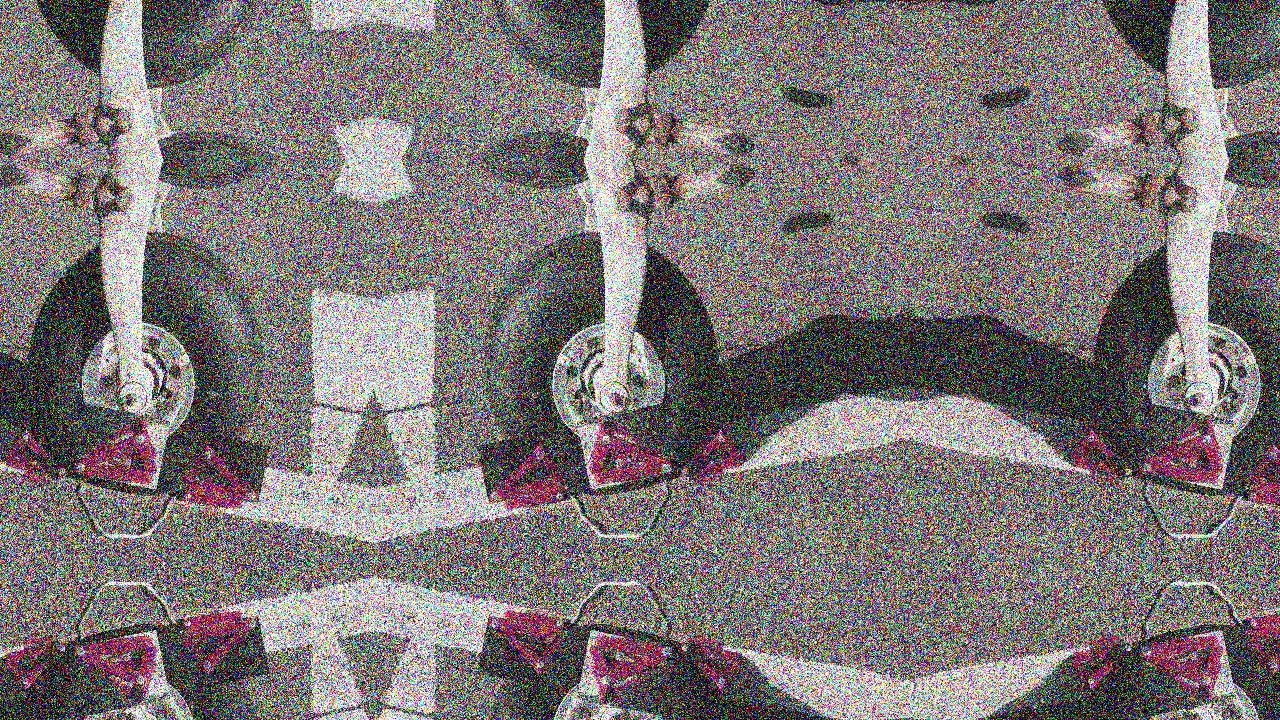chock: (1137, 403, 1237, 490), (1137, 630, 1237, 717), (71, 403, 170, 490), (577, 403, 676, 490), (71, 630, 170, 717), (577, 630, 676, 717), (179, 430, 270, 505), (477, 430, 568, 505), (179, 615, 270, 690), (477, 615, 568, 690), (180, 447, 256, 513), (491, 447, 567, 513), (180, 607, 256, 673), (491, 607, 567, 673), (1069, 418, 1143, 479), (1069, 641, 1143, 702), (3, 418, 76, 479), (671, 418, 744, 479), (3, 641, 76, 702), (671, 641, 744, 702), (1246, 430, 1280, 505), (1246, 615, 1280, 690), (1246, 447, 1280, 513), (1246, 607, 1280, 673), (22, 453, 62, 486), (685, 453, 725, 486), (22, 634, 62, 667), (685, 634, 725, 667), (1089, 453, 1128, 486), (1089, 634, 1128, 667)
wheel: (13, 213, 287, 508), (460, 213, 734, 508), (1080, 213, 1280, 508), (13, 612, 287, 720), (460, 612, 734, 720), (13, 0, 287, 107), (460, 0, 734, 107), (1080, 612, 1280, 720), (1080, 0, 1280, 107)
